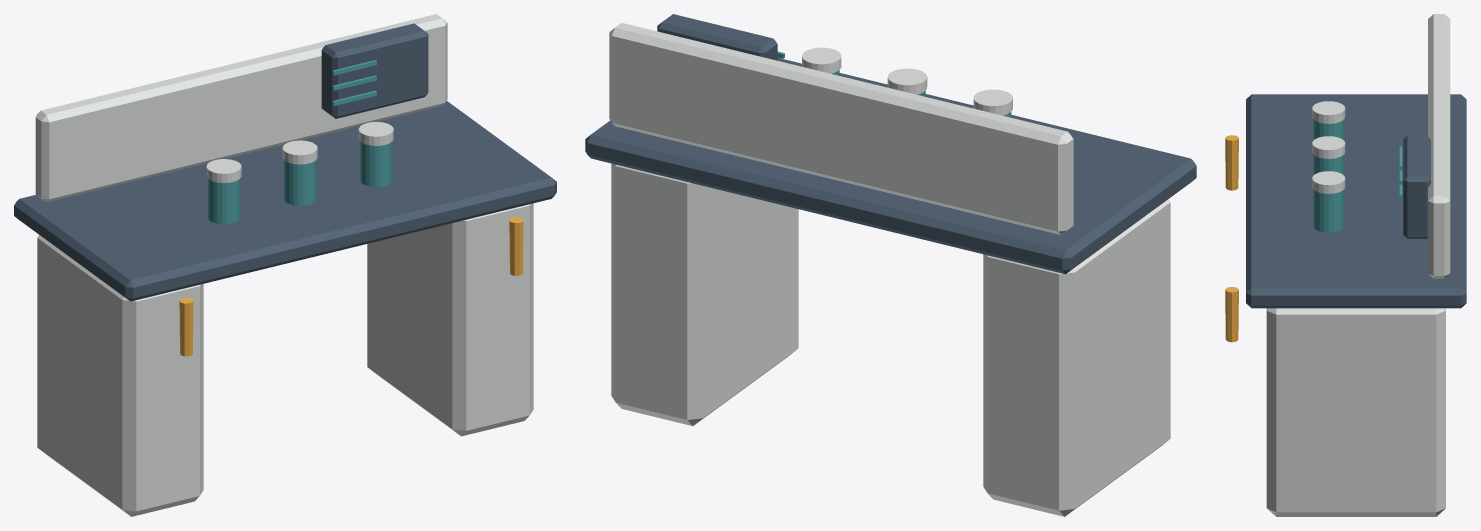
The picture shows the model from 3 angles, left to right: view 1: azimuth 30°, elevation 25°; view 2: azimuth 150°, elevation 25°; view 3: azimuth 270°, elevation 25°; orthographic projection. The views are drawn at different scales.
Parts seen in each view (by area): view 1: SI-001 Restrained sample laboratory bench batched; view 2: SI-001 Restrained sample laboratory bench batched; view 3: SI-001 Restrained sample laboratory bench batched.
Boxes of the visible parts, x1,y1,x2,y2 form: SI-001 Restrained sample laboratory bench batched: (14, 14, 556, 516); SI-001 Restrained sample laboratory bench batched: (585, 14, 1196, 516); SI-001 Restrained sample laboratory bench batched: (1225, 14, 1466, 516).
Bounding box in the file's own units: 1.7 × 1.3 × 0.875.
